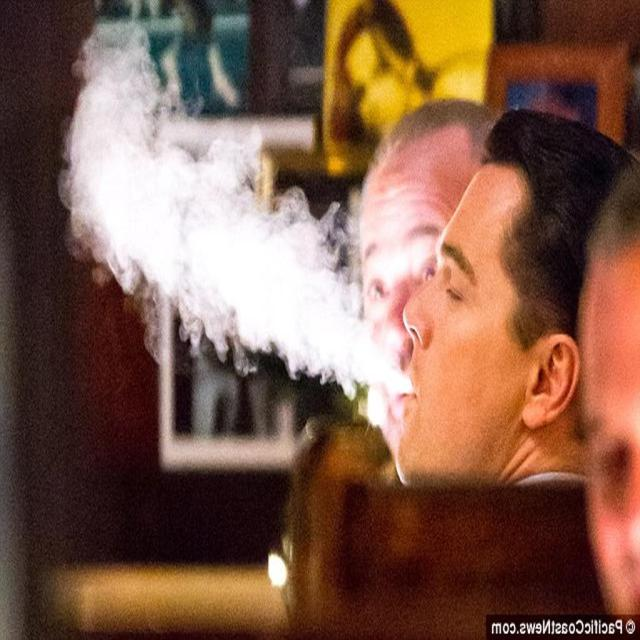smoking: (33, 76, 563, 485)
